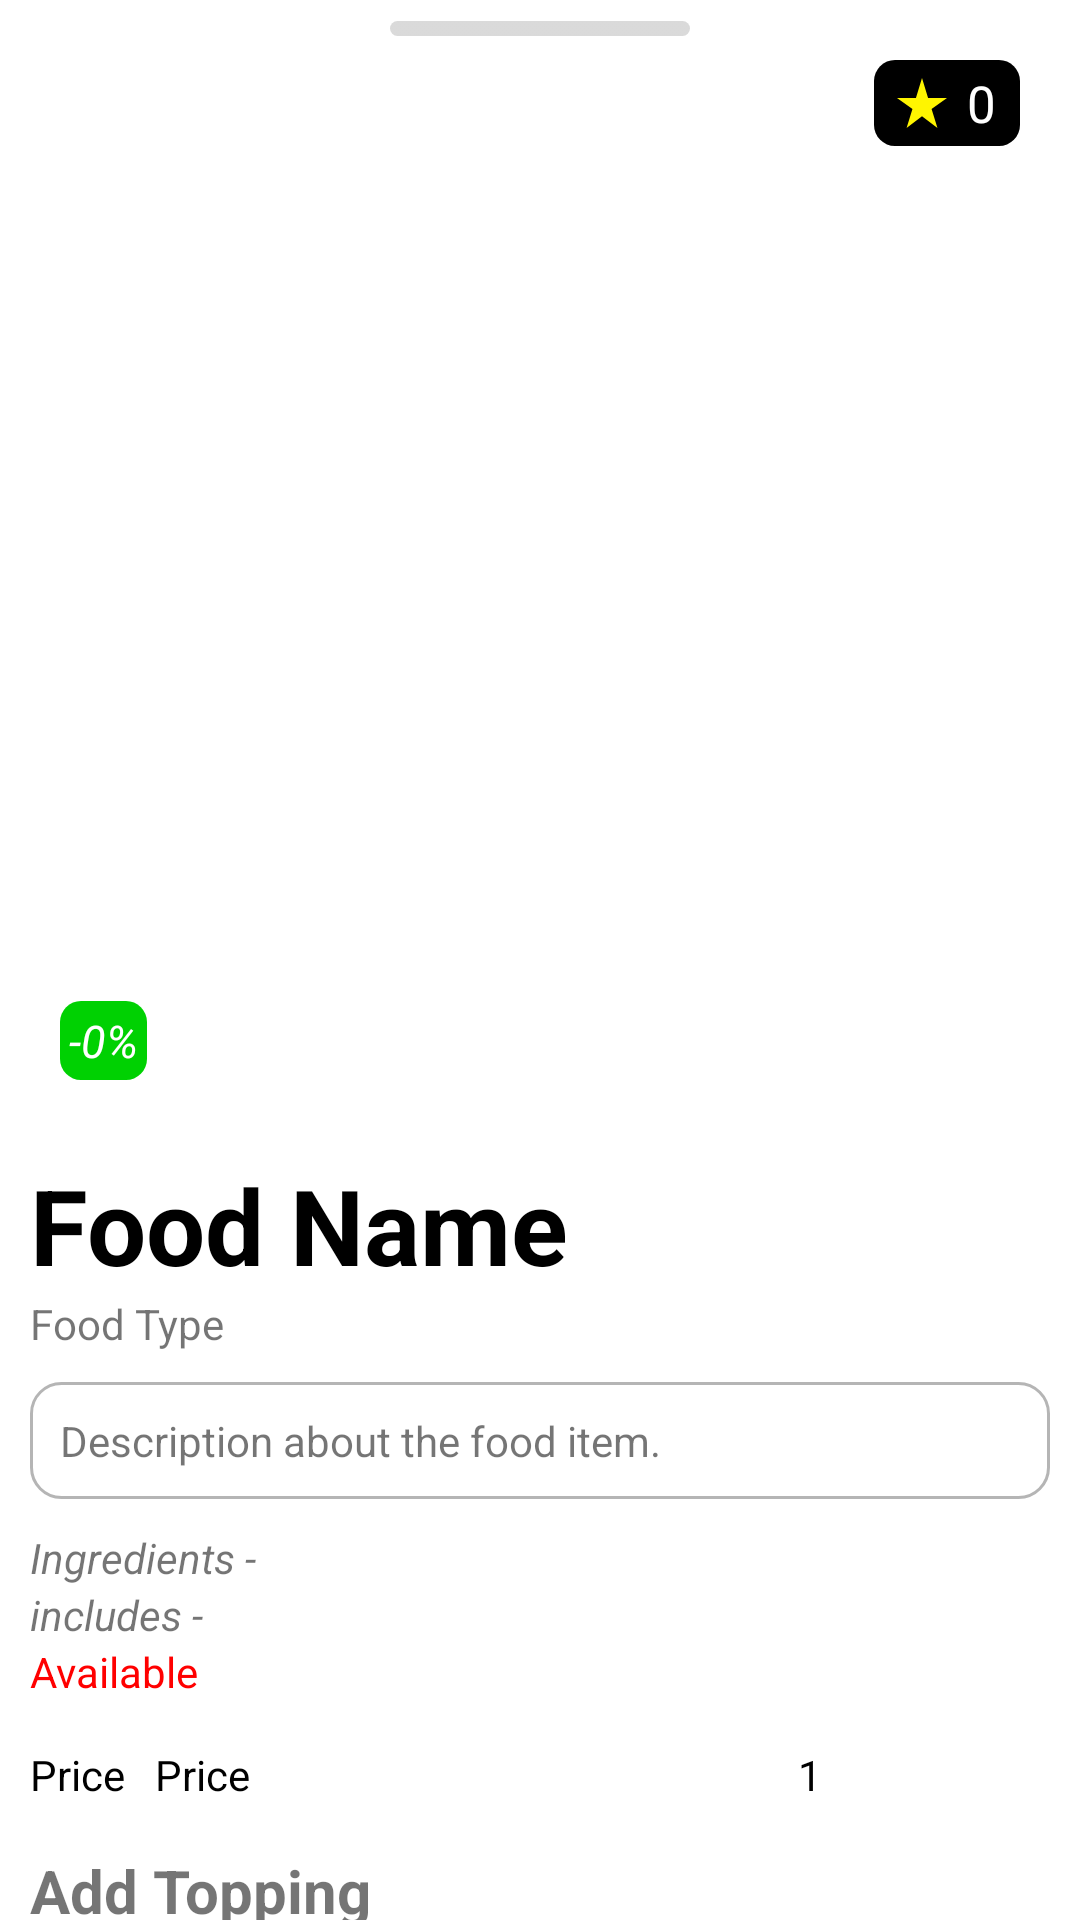

Icon bounding boxes for this 1080px x 1920px phone screenshot, format detection(x1, y1, x2, y2):
rating: detection(897, 78, 947, 128)
